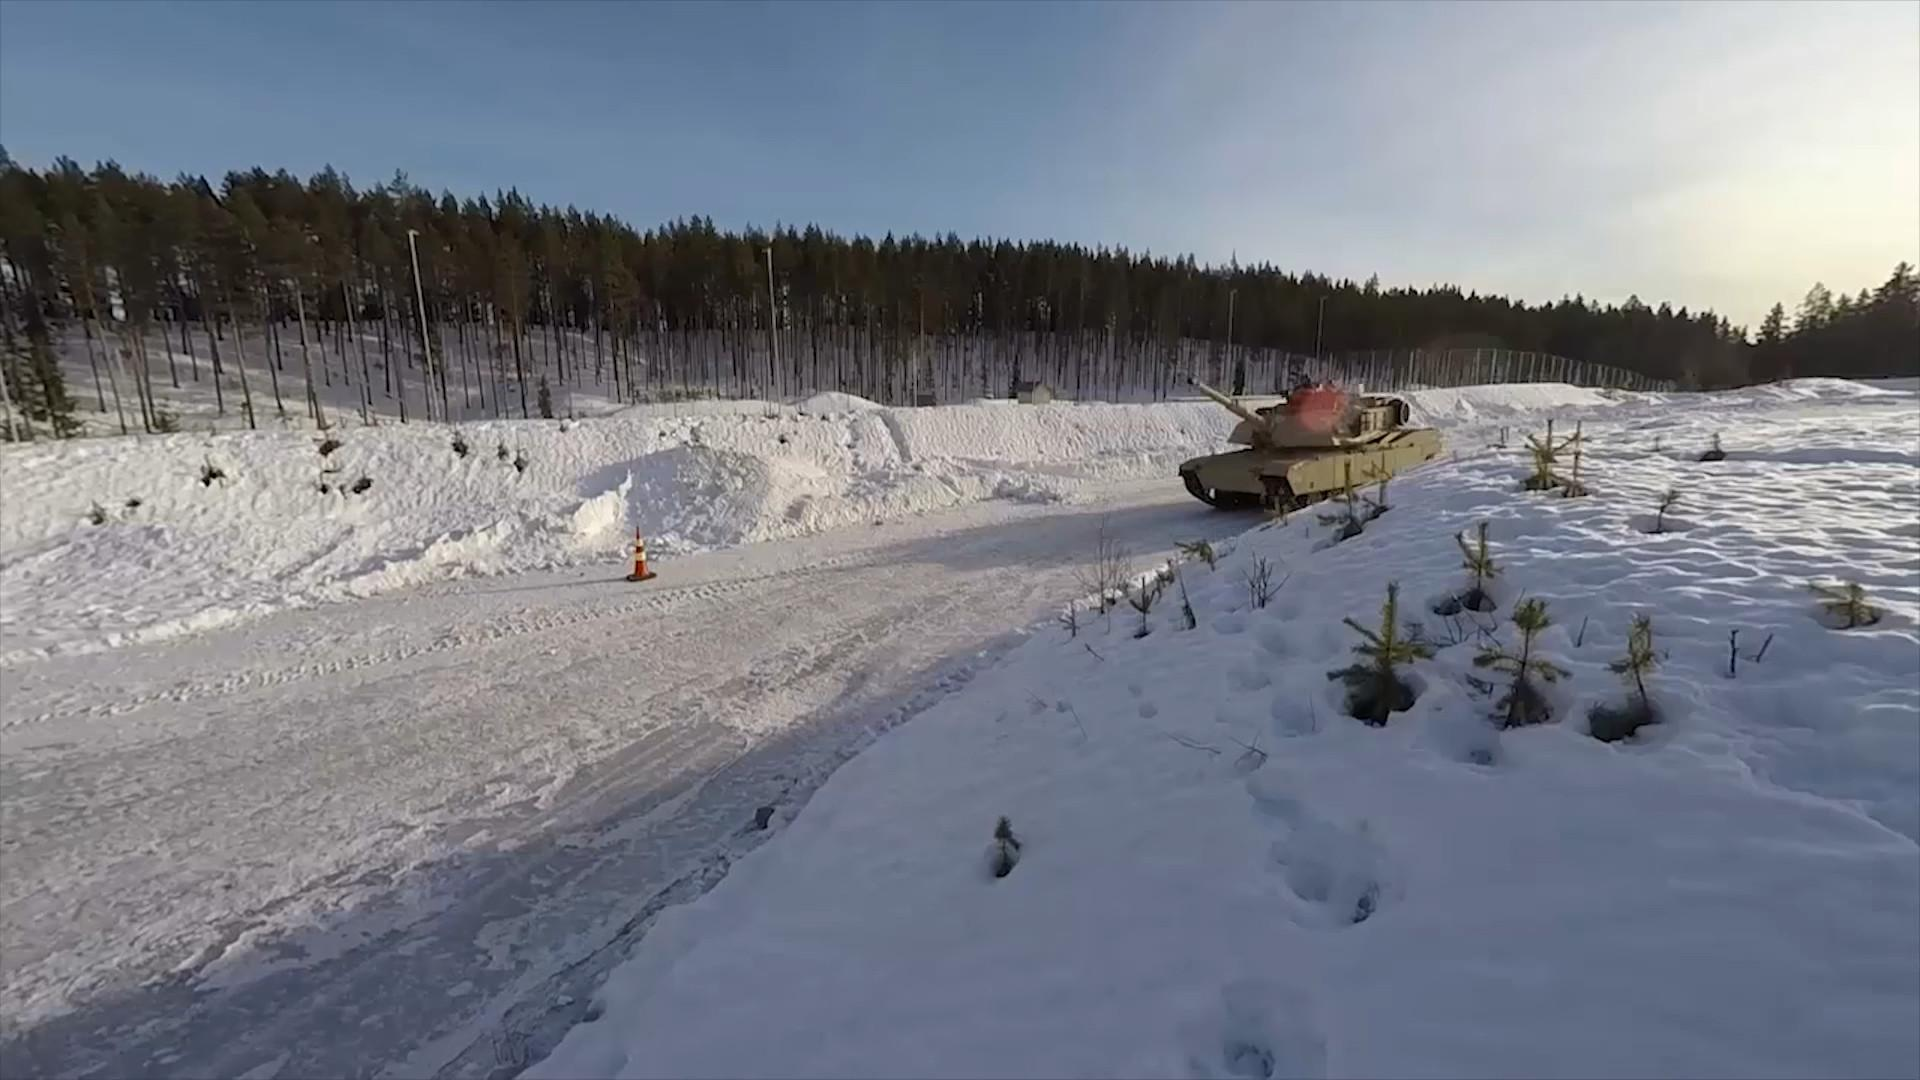tank: (1176, 376, 1443, 514)
